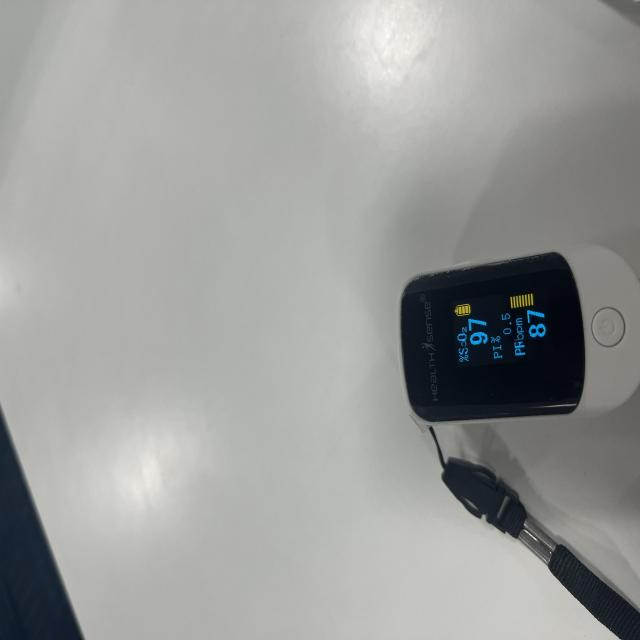spo2: (399, 245, 640, 640)
